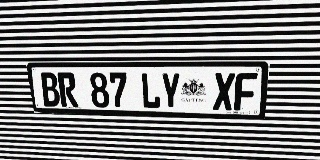7: (108, 73, 129, 108)
8: (89, 72, 110, 108)
B: (39, 72, 61, 107)
F: (234, 73, 258, 111)
L: (140, 73, 161, 109)
R: (57, 72, 78, 107)
X: (213, 73, 235, 110)
Y: (161, 73, 180, 109)
